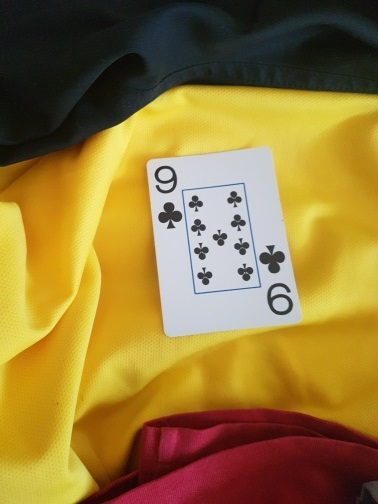nine: (146, 145, 304, 340)
